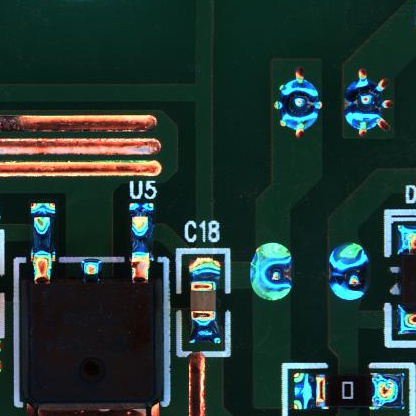spot: (345, 68, 395, 139), (274, 68, 323, 137), (248, 243, 293, 303), (329, 242, 368, 302)
